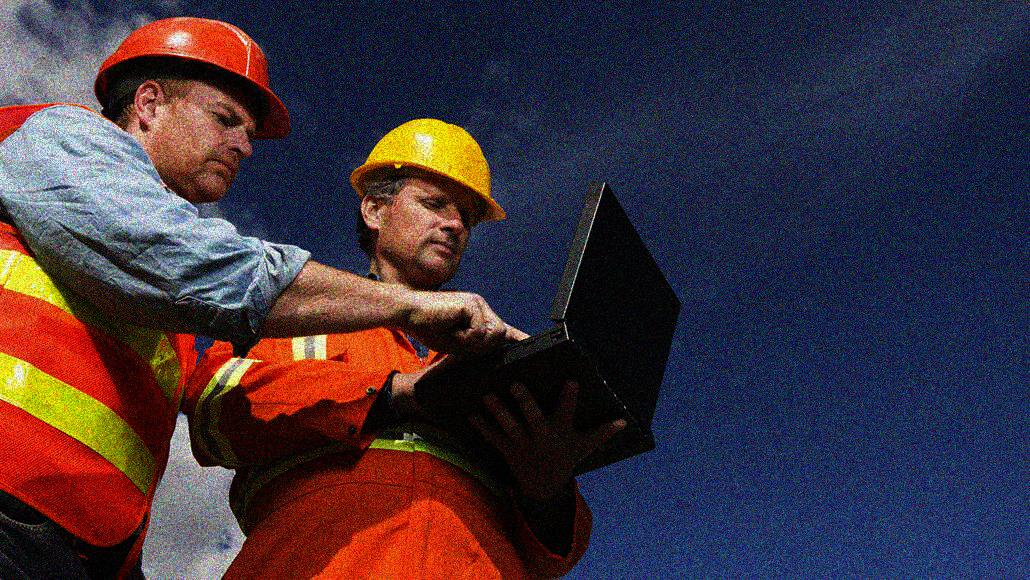helmet: (89, 10, 296, 199), (349, 112, 508, 275)
